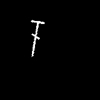double_crochet: (31, 20, 43, 55)
